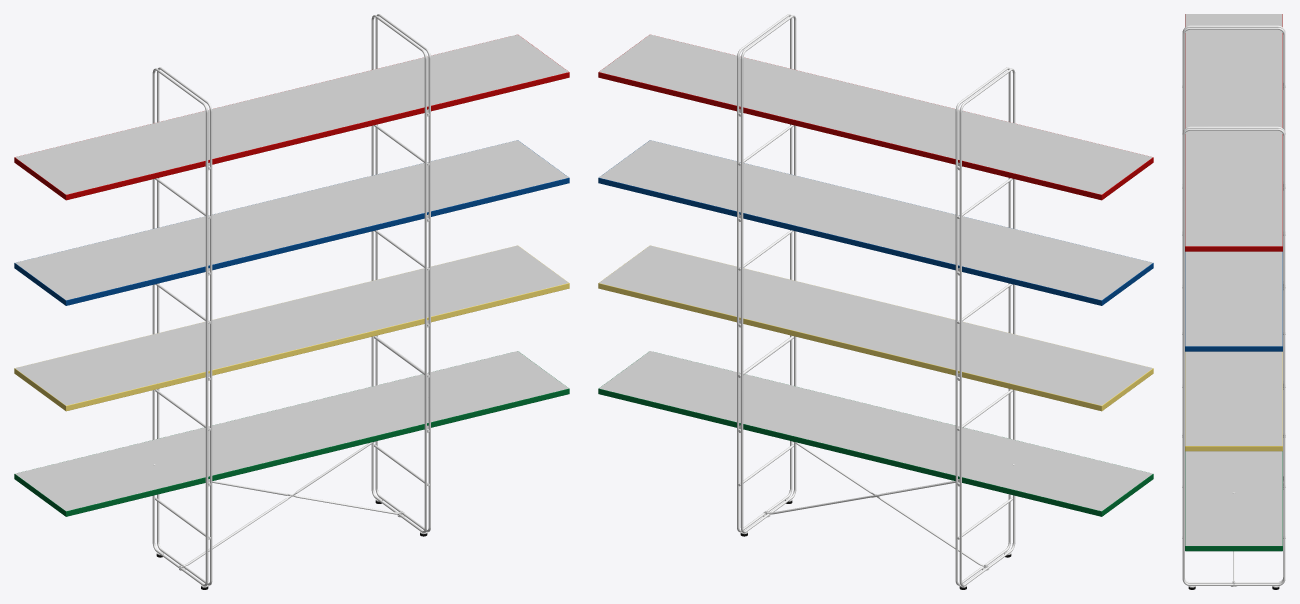
File: byakorre_rega_otwarty_20586458.glb
3 views of the same model, side by side, from view 1: azimuth 30°, elevation 25°; view 2: azimuth 150°, elevation 25°; view 3: azimuth 270°, elevation 25° (orthographic). The views are drawn at different scales.
Visible parts, largest first — view 1: byakorre_rega_otwarty_20586458; view 2: byakorre_rega_otwarty_20586458; view 3: byakorre_rega_otwarty_20586458.
Boxes of the visible parts, box(x1,y1,x2,y2) form: byakorre_rega_otwarty_20586458: box(14, 14, 569, 589); byakorre_rega_otwarty_20586458: box(598, 14, 1153, 589); byakorre_rega_otwarty_20586458: box(1182, 14, 1285, 589).
Size of the model in its own units: 1.7 by 1.57 by 0.32.
